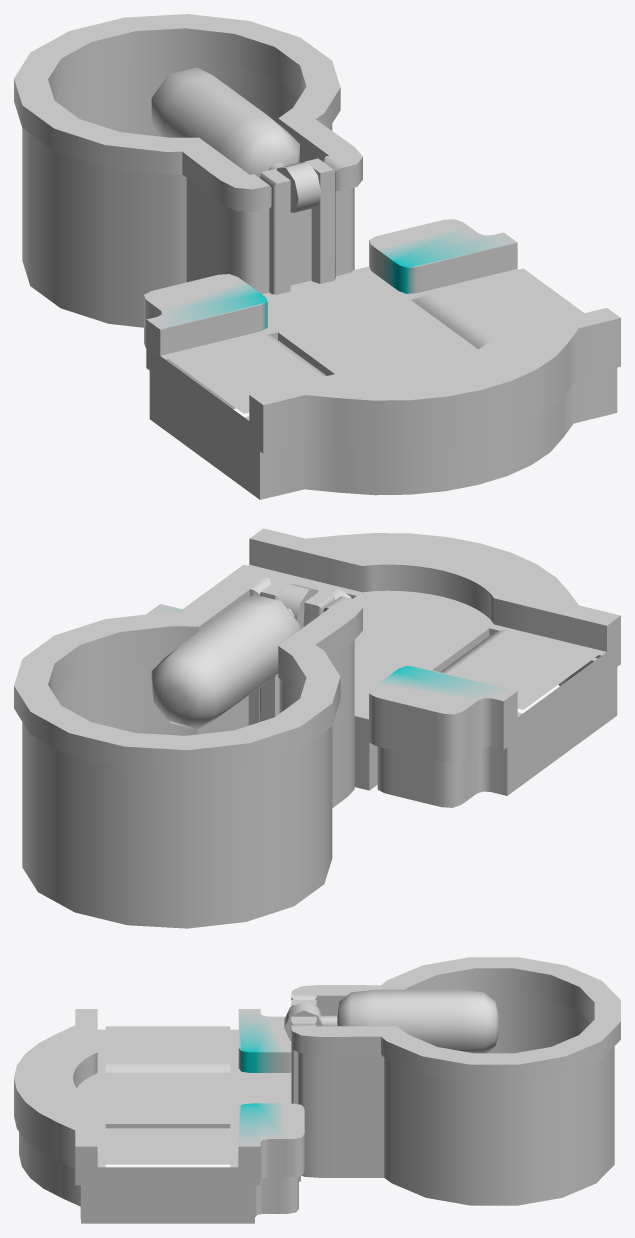
The model's file is Blueprint_LOD1.fbx.
The picture shows the model from 3 angles, top to bottom: view 1: azimuth 30°, elevation 25°; view 2: azimuth 150°, elevation 25°; view 3: azimuth 270°, elevation 25°; orthographic projection. The views are drawn at different scales.
Parts seen in each view (by area): view 1: Blueprint.001; view 2: Blueprint.001; view 3: Blueprint.001.
Boxes of the visible parts, box(x1,y1,x2,y2) form: Blueprint.001: box(14, 14, 620, 499); Blueprint.001: box(14, 528, 620, 928); Blueprint.001: box(14, 957, 620, 1223).
Bounding box in the file's own units: 1 × 0.5615 × 1.86.
